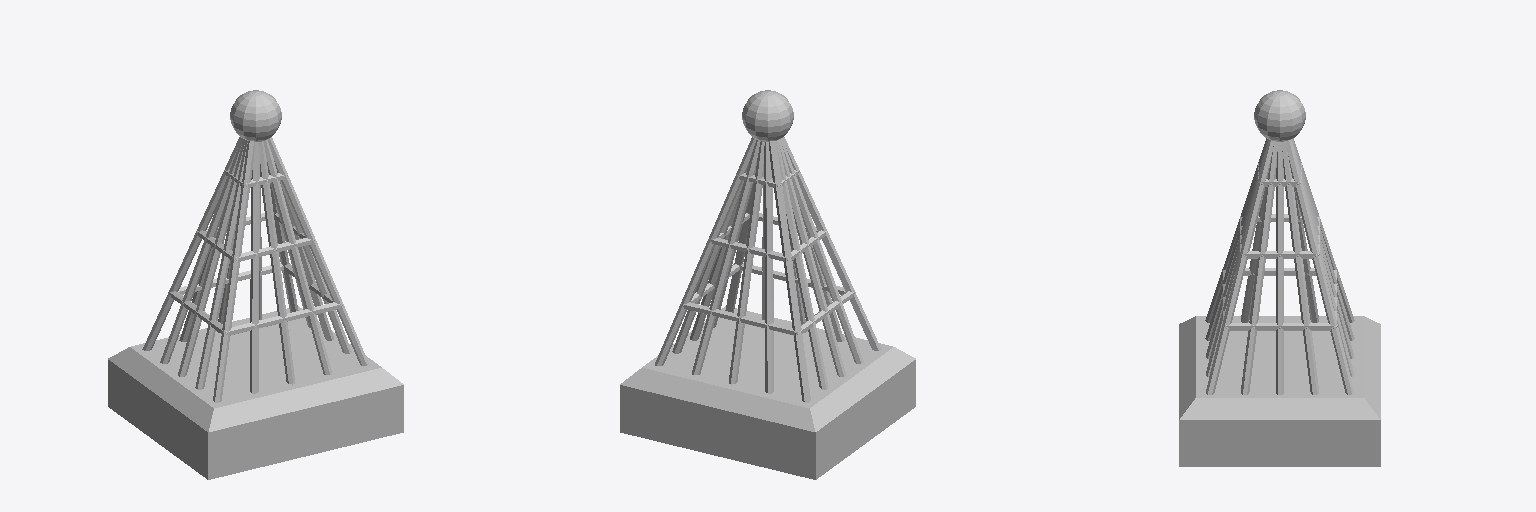
The model's file is Boya4.obj.
3 views of the same model, side by side, from view 1: azimuth 30°, elevation 25°; view 2: azimuth 150°, elevation 25°; view 3: azimuth 270°, elevation 25° (orthographic).
Parts seen in each view (by area): view 1: Boya_4; view 2: Boya_4; view 3: Boya_4.
Boxes of the visible parts, x1,y1,x2,y2 form: Boya_4: [108, 90, 403, 479]; Boya_4: [620, 90, 915, 479]; Boya_4: [1179, 90, 1380, 466].
Bounding box in the file's own units: 51.41 × 81.95 × 45.69.